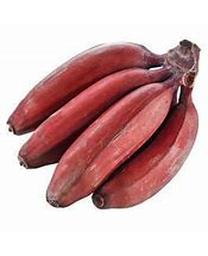banana: (11, 40, 198, 207)
